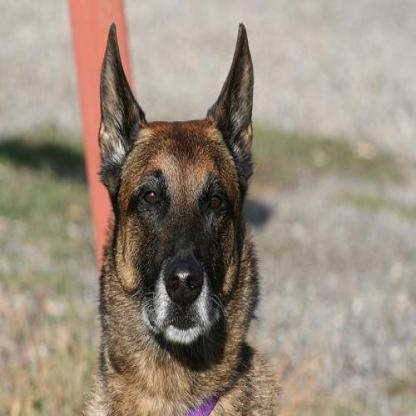malinois: (82, 20, 277, 413)
